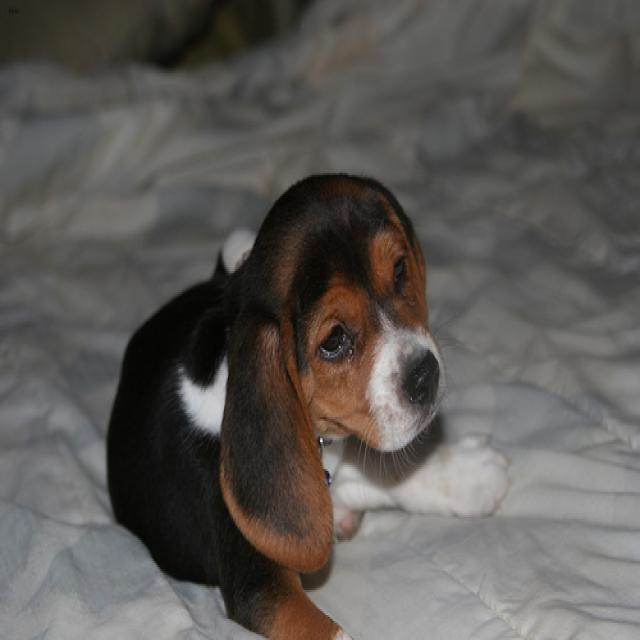dog-beagle: (99, 163, 521, 636)
